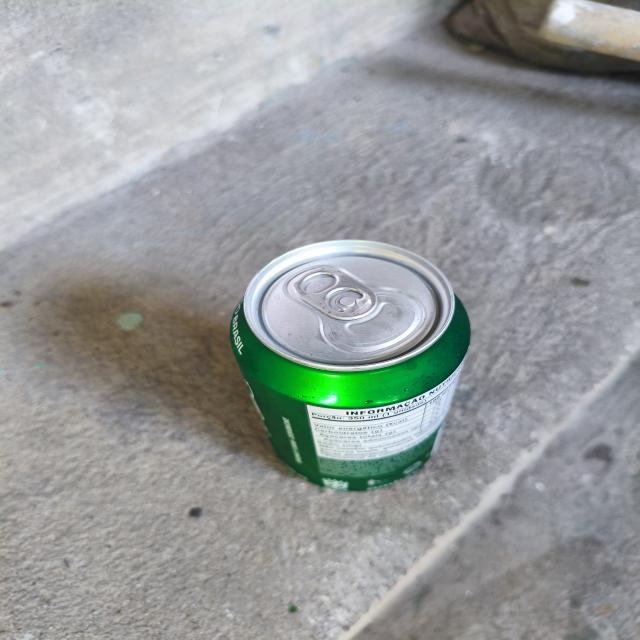Guarana: (219, 224, 478, 506)
